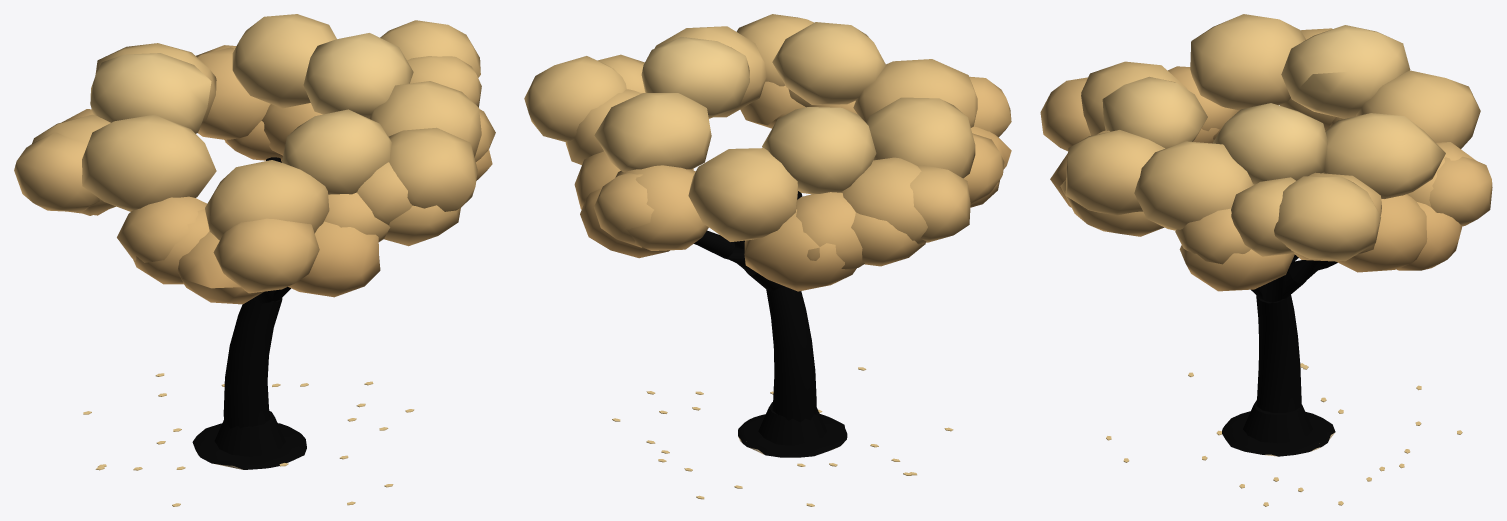
File: SakuraTree.fbx
3 views of the same model, side by side, from view 1: azimuth 30°, elevation 25°; view 2: azimuth 150°, elevation 25°; view 3: azimuth 270°, elevation 25° (orthographic). The views are drawn at different scales.
Visible parts, largest first — view 1: SakuraTree; view 2: SakuraTree; view 3: SakuraTree.
Part boxes in pixels (left/top/right/bottom): SakuraTree: left=14, top=14, right=495, bottom=506; SakuraTree: left=524, top=14, right=1011, bottom=506; SakuraTree: left=1040, top=14, right=1492, bottom=506.
Size of the model in its own units: 5.01 by 4.08 by 4.45.
2 materials, 2 textured.
